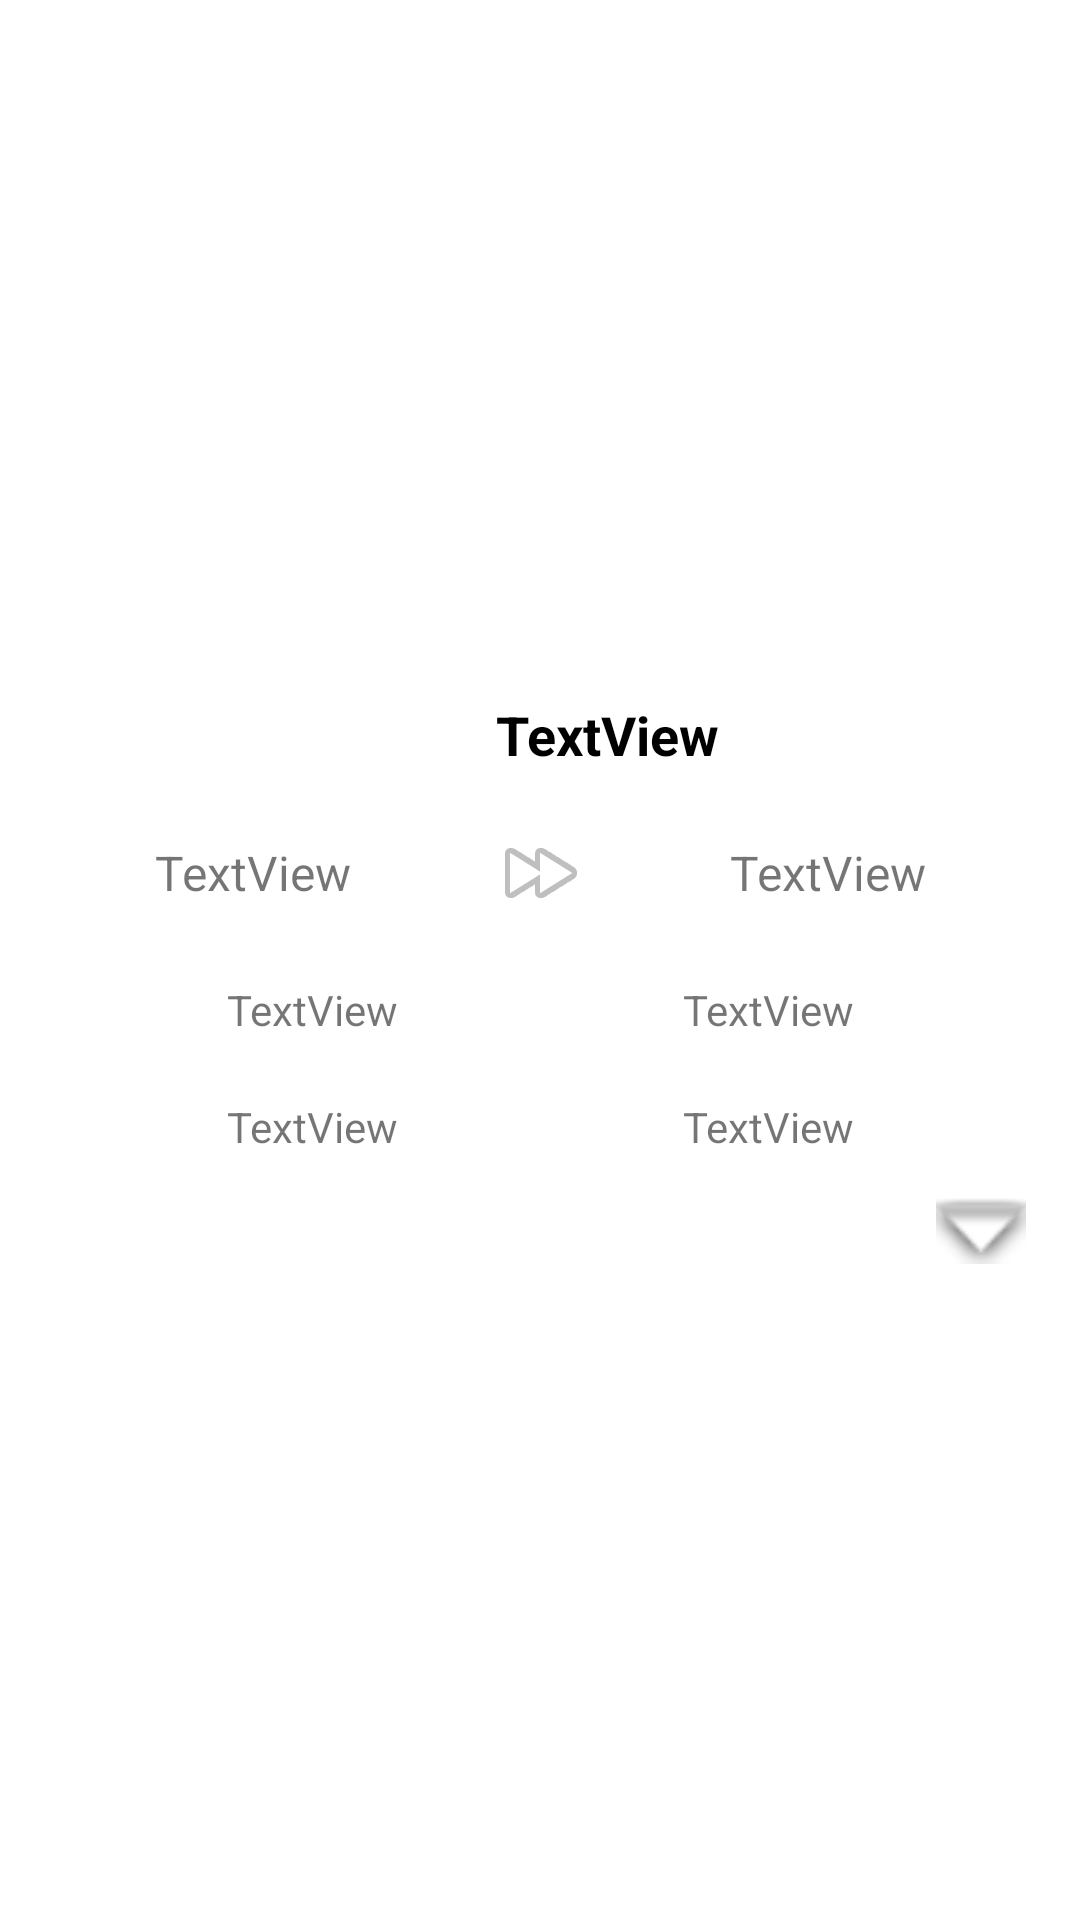

Screen size 1080 × 1920. Icon name, then its box in pixels as (x1, y1, x2, y2):
arrow down float: (936, 1200, 1026, 1262)
